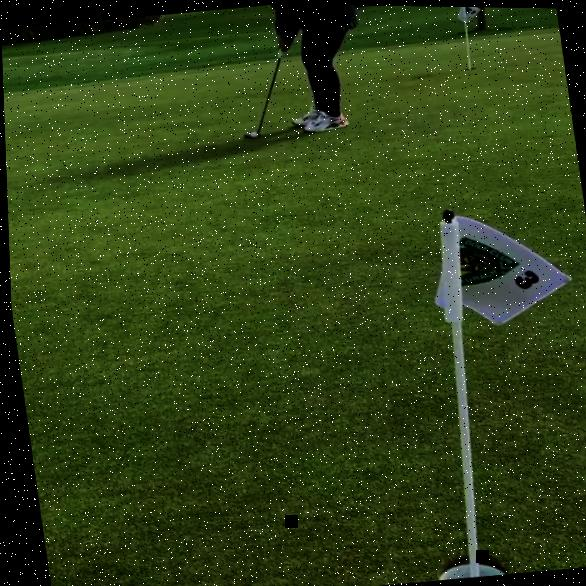ClubHead: (244, 130, 257, 137)
GolfBall: (248, 130, 256, 137)
